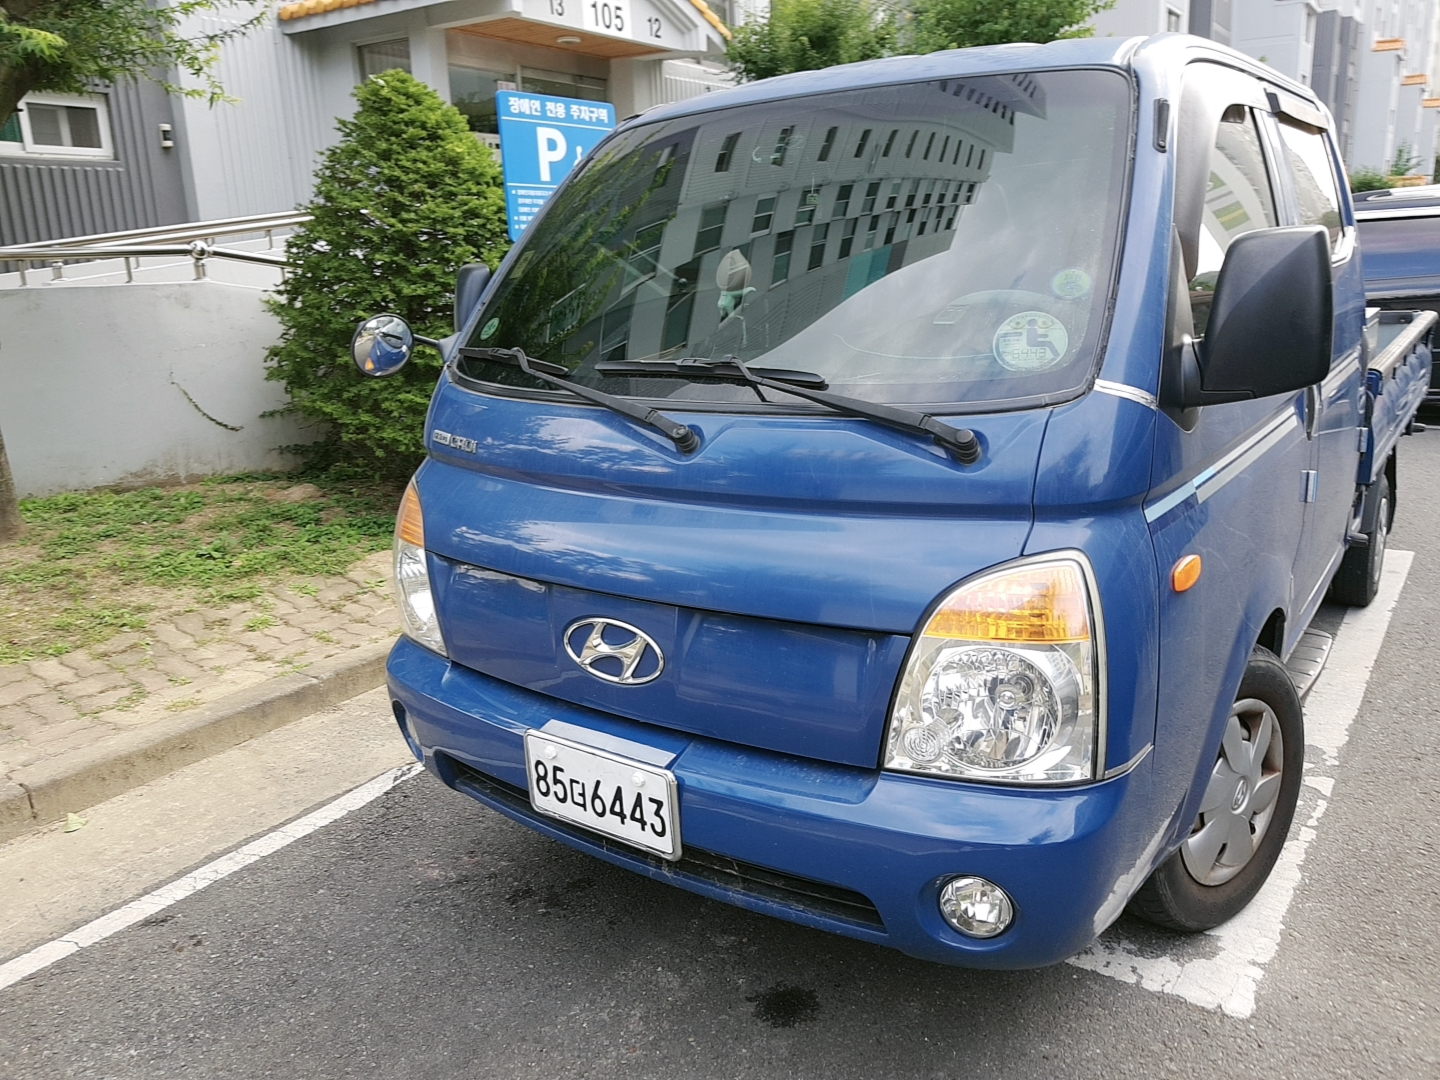apart_parking: (1049, 264, 1095, 302)
disabled_parking: (994, 309, 1071, 374)
etc: (481, 318, 503, 340)
